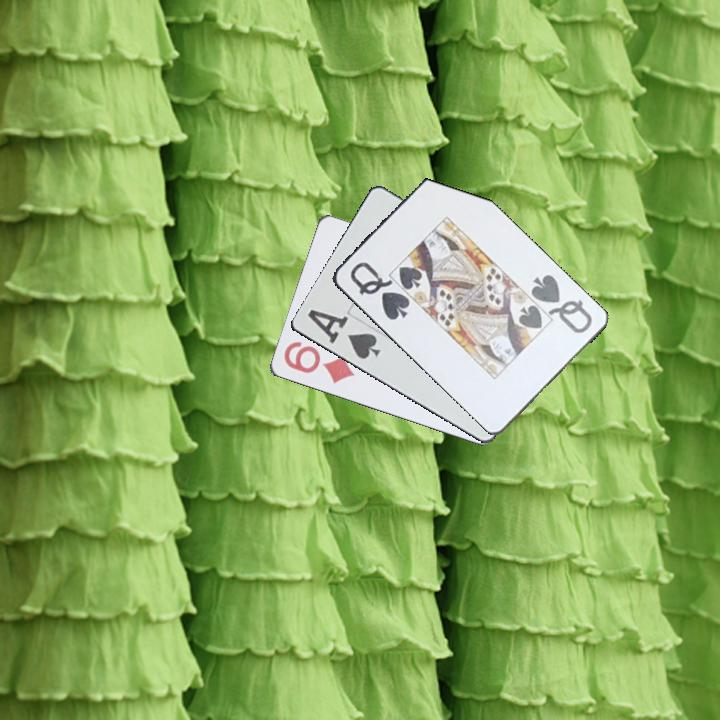6d: (280, 338, 358, 387)
As: (303, 306, 383, 362)
Qs: (527, 271, 595, 337), (346, 258, 413, 323)
